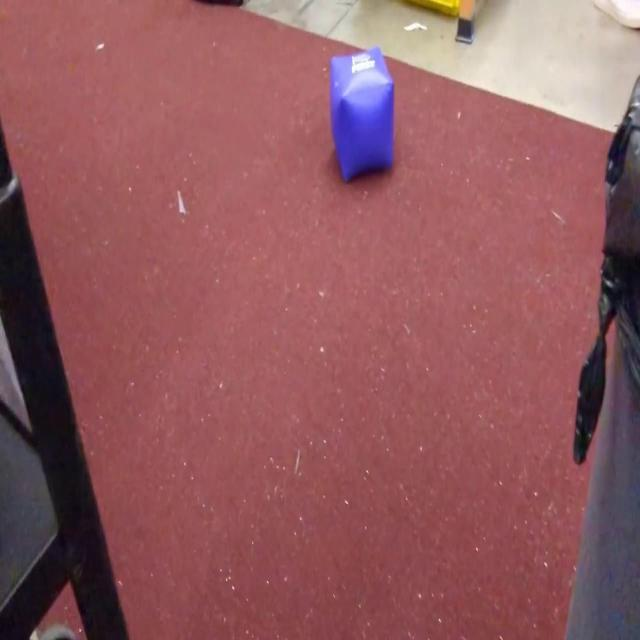frc_cube: (330, 45, 396, 183)
